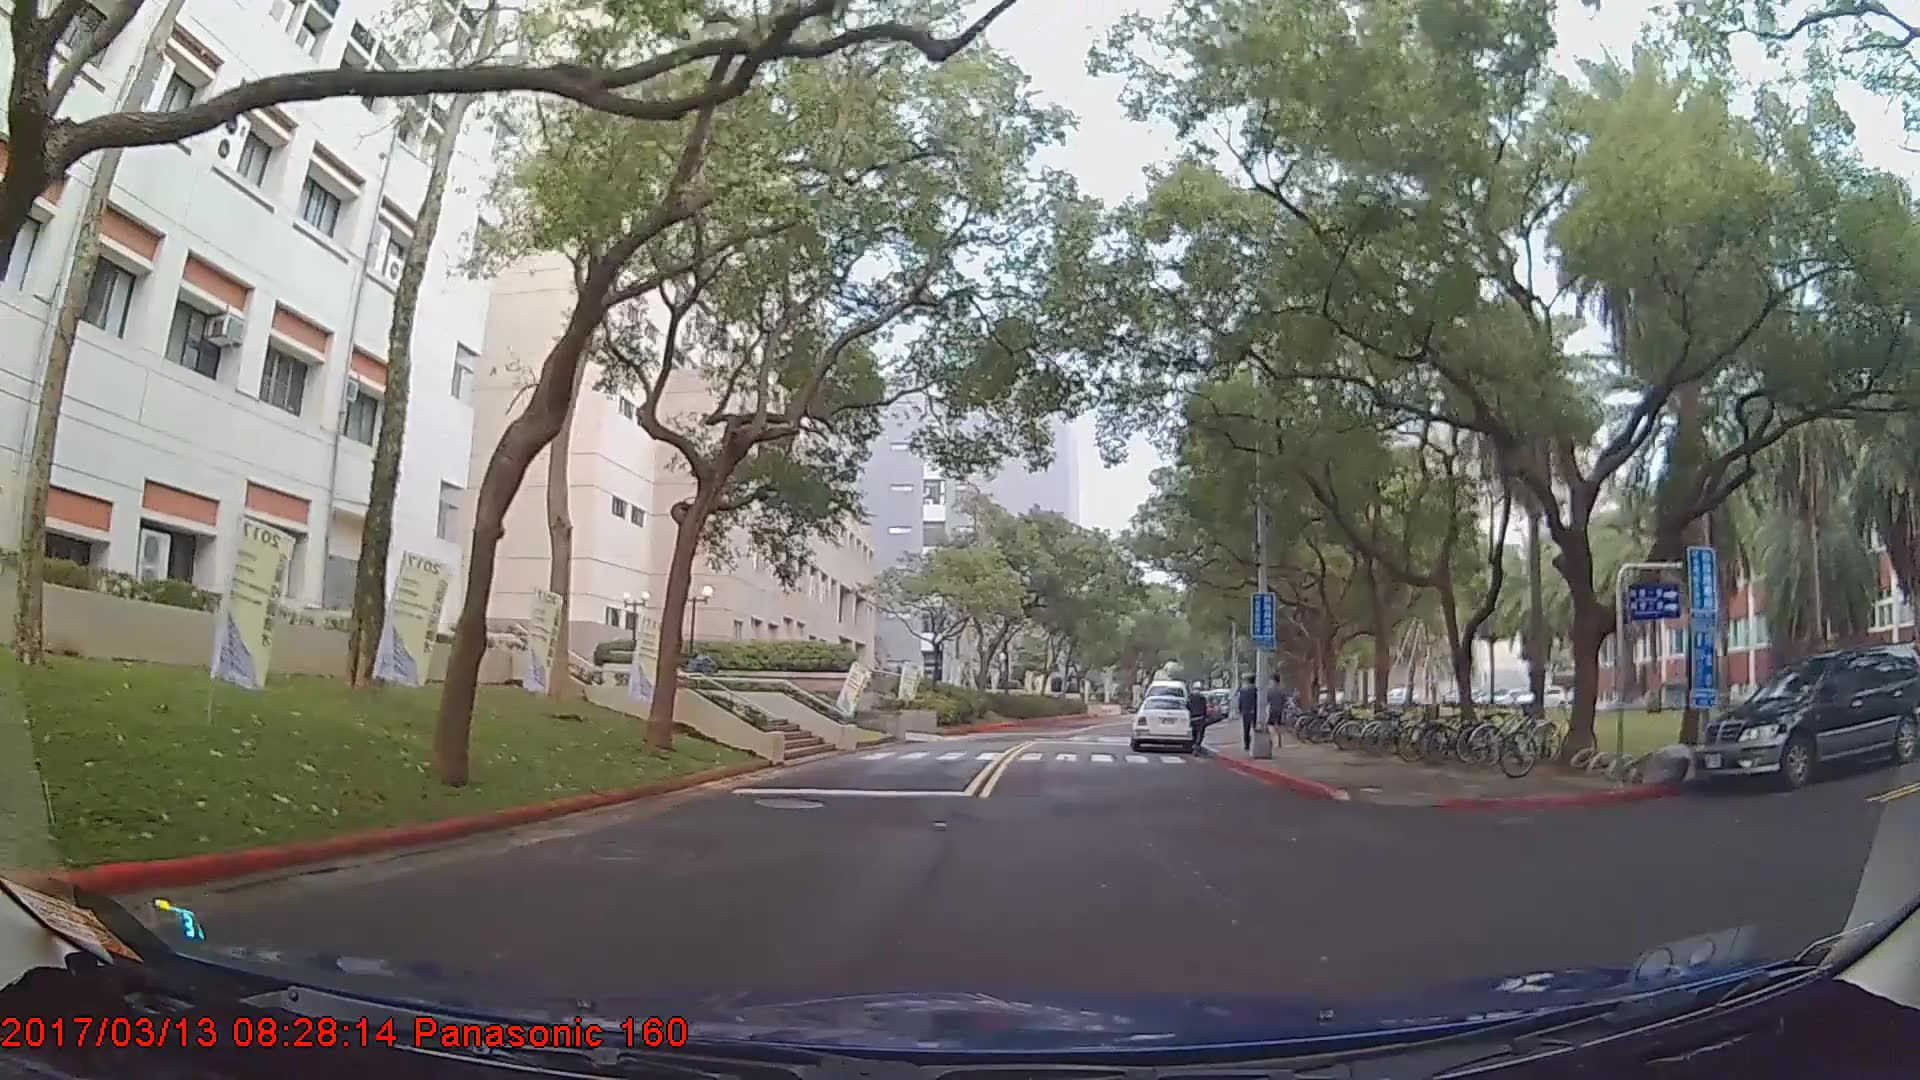pedestrian: (1239, 682, 1265, 754), (1184, 681, 1208, 756)
vehicle: (1692, 643, 1920, 791), (1128, 691, 1197, 750)
